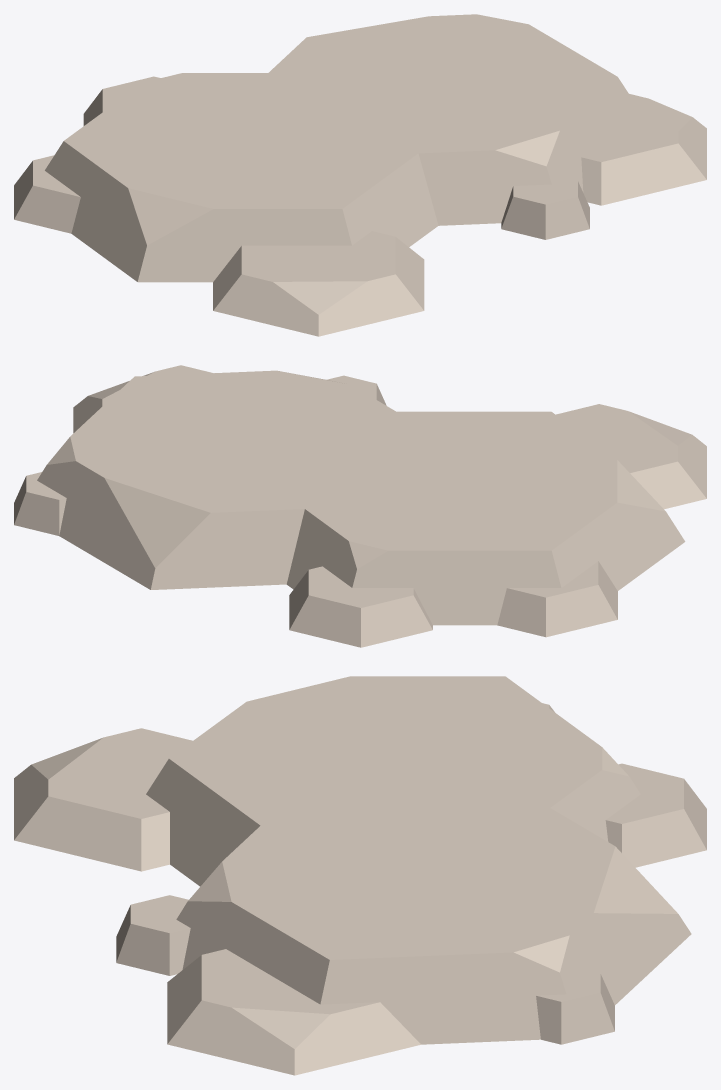
Rendered from platform_beach.glb.
3 renders of one model, top to bottom at view 1: azimuth 30°, elevation 25°; view 2: azimuth 150°, elevation 25°; view 3: azimuth 270°, elevation 25°, orthographic. The views are drawn at different scales.
Parts seen in each view (by area): view 1: platform_beach; view 2: platform_beach; view 3: platform_beach.
Part boxes in pixels (x1,y1,x2,y2): platform_beach: (14, 14, 706, 336); platform_beach: (14, 365, 706, 647); platform_beach: (14, 676, 706, 1075).
Bounding box in the file's own units: 0.8932 × 0.0825 × 0.7239.
